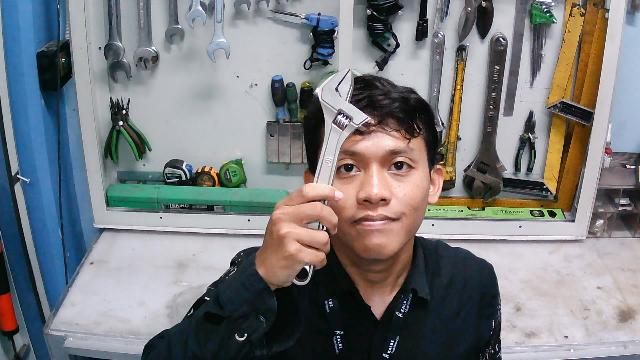kunci_inggris: (269, 65, 369, 288)
